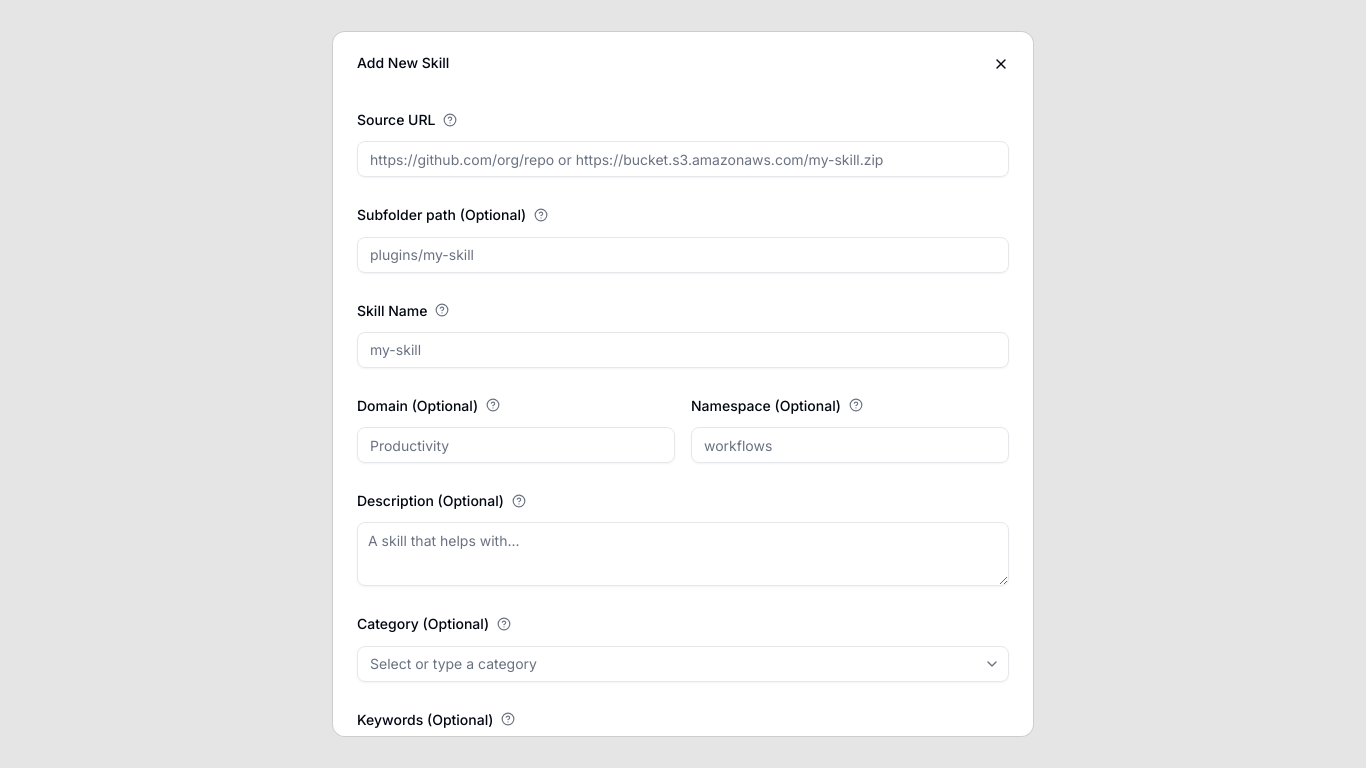
AddPluginForm › shows git-subdir preview for a tree URL and disables the subfolder field
Step 1. Replace the text in the field with placeholder "https://github.com/org/repo or https://bucket.s3.amazonaws.com/my-skill.zip" with "https://github.com/anthropics/claude-code/tree/main/plugins/my-skill" → (683,159), box [357,141,1009,177]
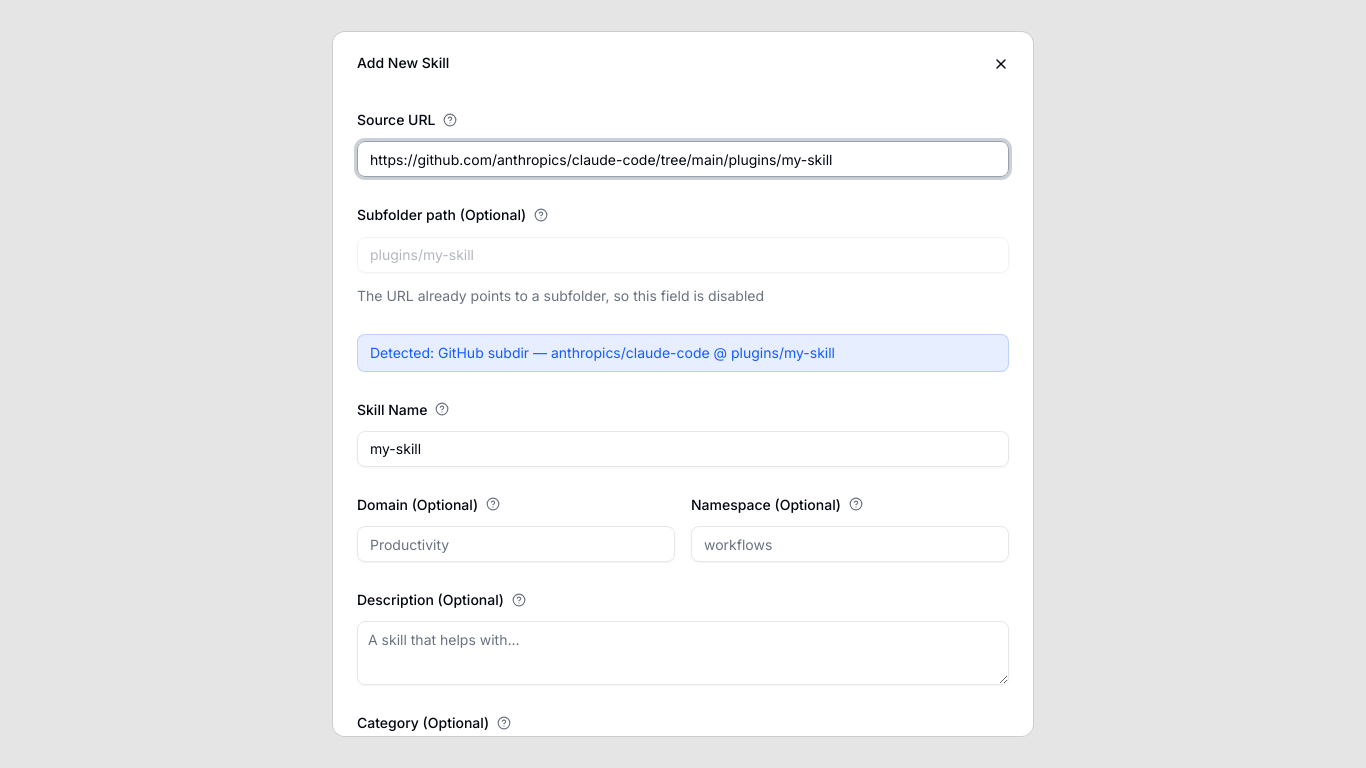
Now the text "GitHub subdir" is shown, box [438,344,835,360]
Now the field with placeholder "plugins/my-skill" is disabled, box [357,236,1009,272]
